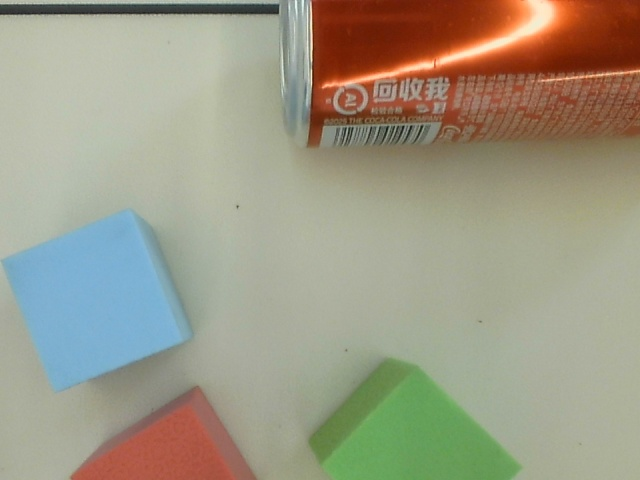bluecube: (1, 205, 206, 399)
cola: (279, 1, 640, 153)
greencube: (306, 350, 524, 480)
redcube: (63, 384, 271, 480)
